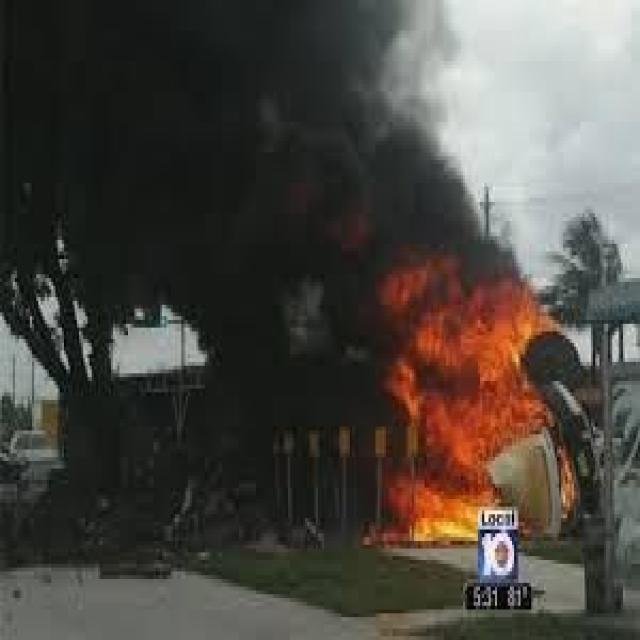fire: (377, 248, 581, 546)
smoke: (0, 0, 525, 309)
